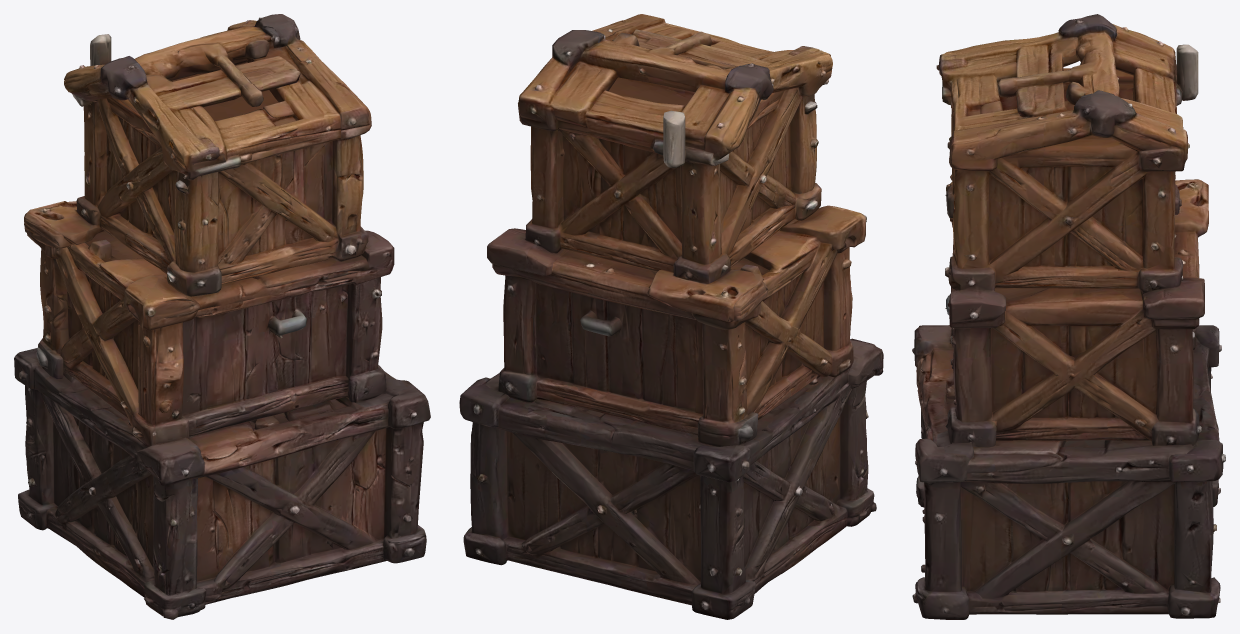
File: almacen.glb
3 views of the same model, side by side, from view 1: azimuth 30°, elevation 25°; view 2: azimuth 150°, elevation 25°; view 3: azimuth 270°, elevation 25° (orthographic).
Size of the model in its own units: 0.5815 by 0.9775 by 0.5648.
1 material, 1 textured.
